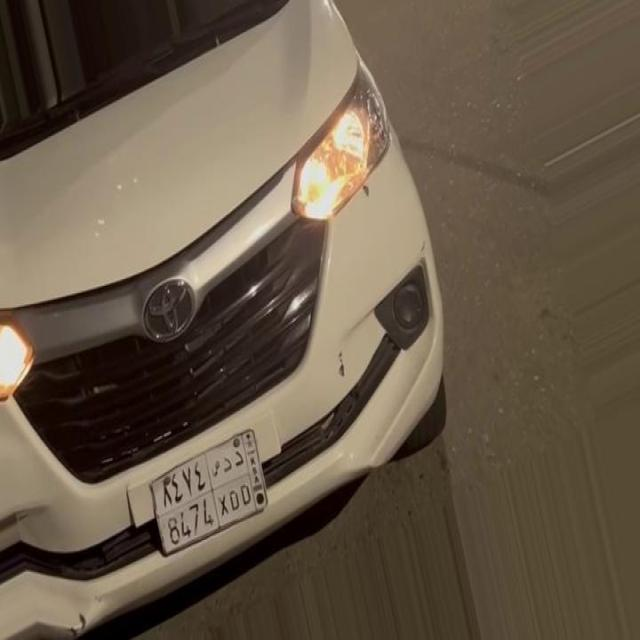Car-plate: (137, 406, 283, 582)
